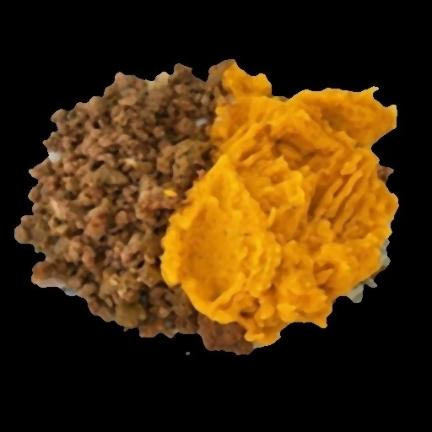meat: (16, 65, 252, 353)
